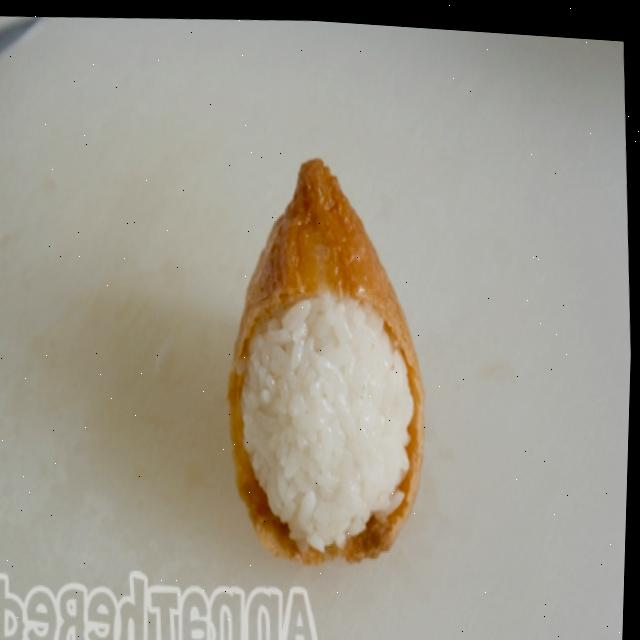寿司卷物: (197, 112, 471, 589)
